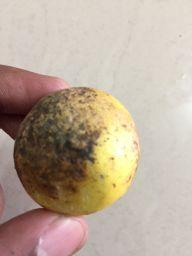lemon: (13, 82, 150, 218)
